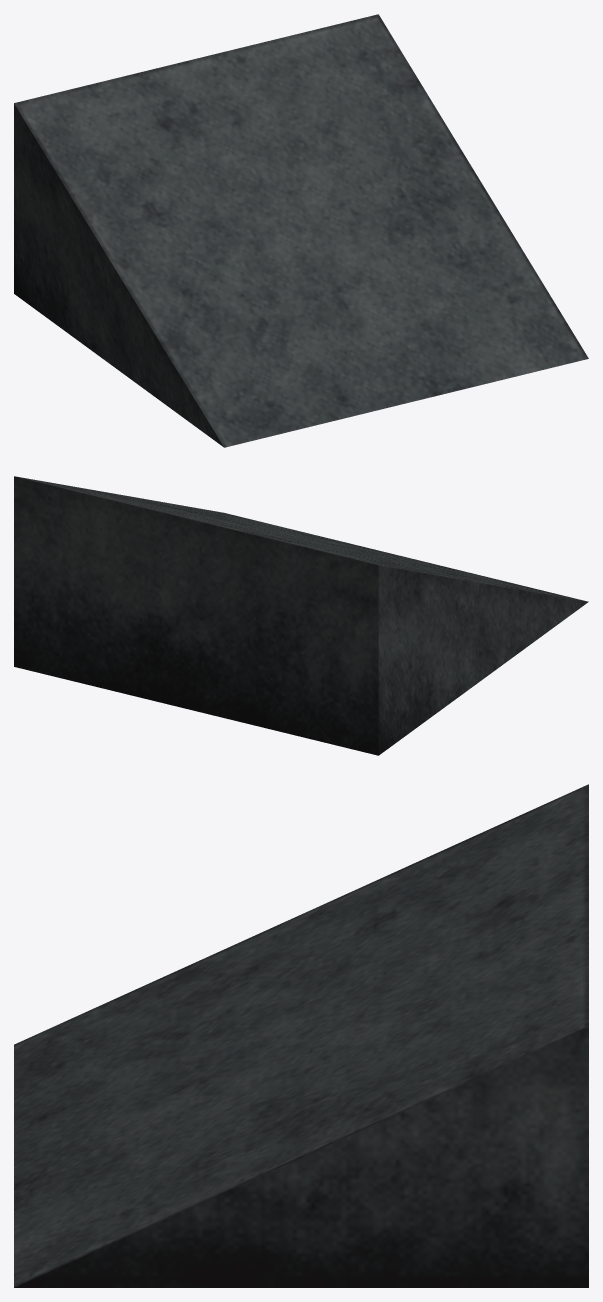
File: SM_EC_ConcreteBlock_0.001.fbx
3 views of the same model, one above another, from view 1: azimuth 30°, elevation 25°; view 2: azimuth 150°, elevation 25°; view 3: azimuth 270°, elevation 25° (orthographic). The views are drawn at different scales.
Visible parts, largest first — view 1: SM_EC_ConcreteBlock_0.001; view 2: SM_EC_ConcreteBlock_0.001; view 3: SM_EC_ConcreteBlock_0.001.
Boxes of the visible parts, box(x1,y1,x2,y2) form: SM_EC_ConcreteBlock_0.001: box(14, 14, 588, 447); SM_EC_ConcreteBlock_0.001: box(14, 476, 588, 755); SM_EC_ConcreteBlock_0.001: box(14, 784, 588, 1287).
Size of the model in its own units: 2 by 2 by 1.
